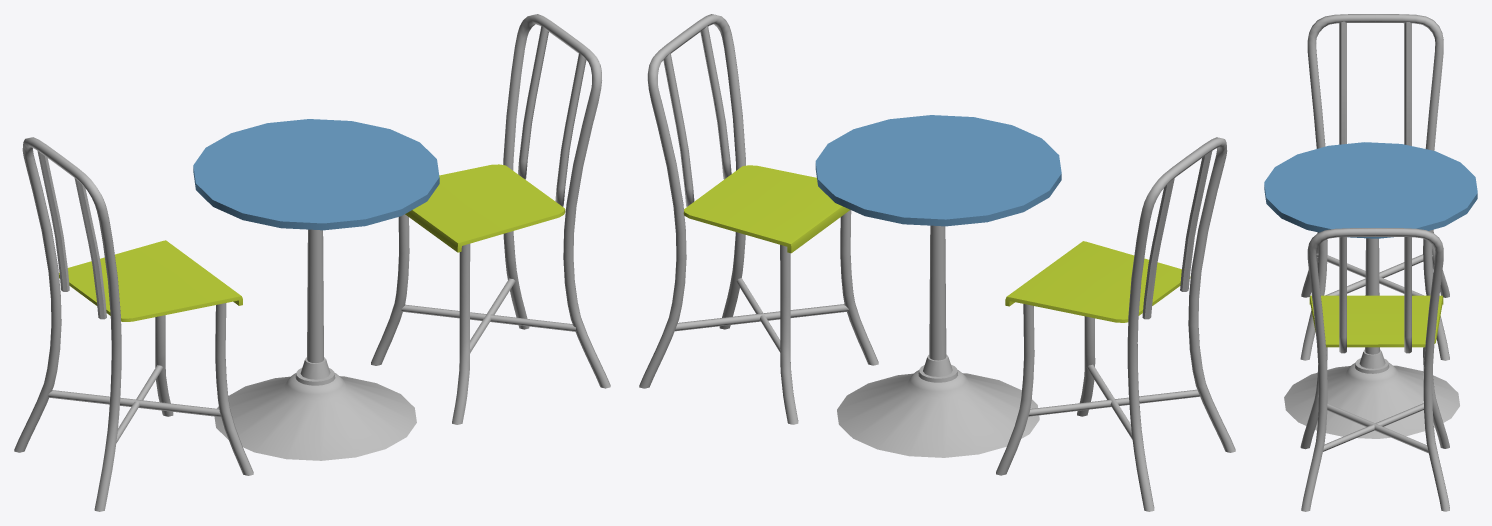
File: Table_1.fbx
The picture shows the model from 3 angles, left to right: view 1: azimuth 30°, elevation 25°; view 2: azimuth 150°, elevation 25°; view 3: azimuth 270°, elevation 25°; orthographic projection. The views are drawn at different scales.
Parts seen in each view (by area): view 1: Table_A; view 2: Table_A; view 3: Table_A.
Boxes of the visible parts, x1,y1,x2,y2 form: Table_A: (14,14,610,511); Table_A: (639,14,1235,511); Table_A: (1264,14,1477,511).
Size of the model in its own units: 38.66 by 23.17 by 15.98.
